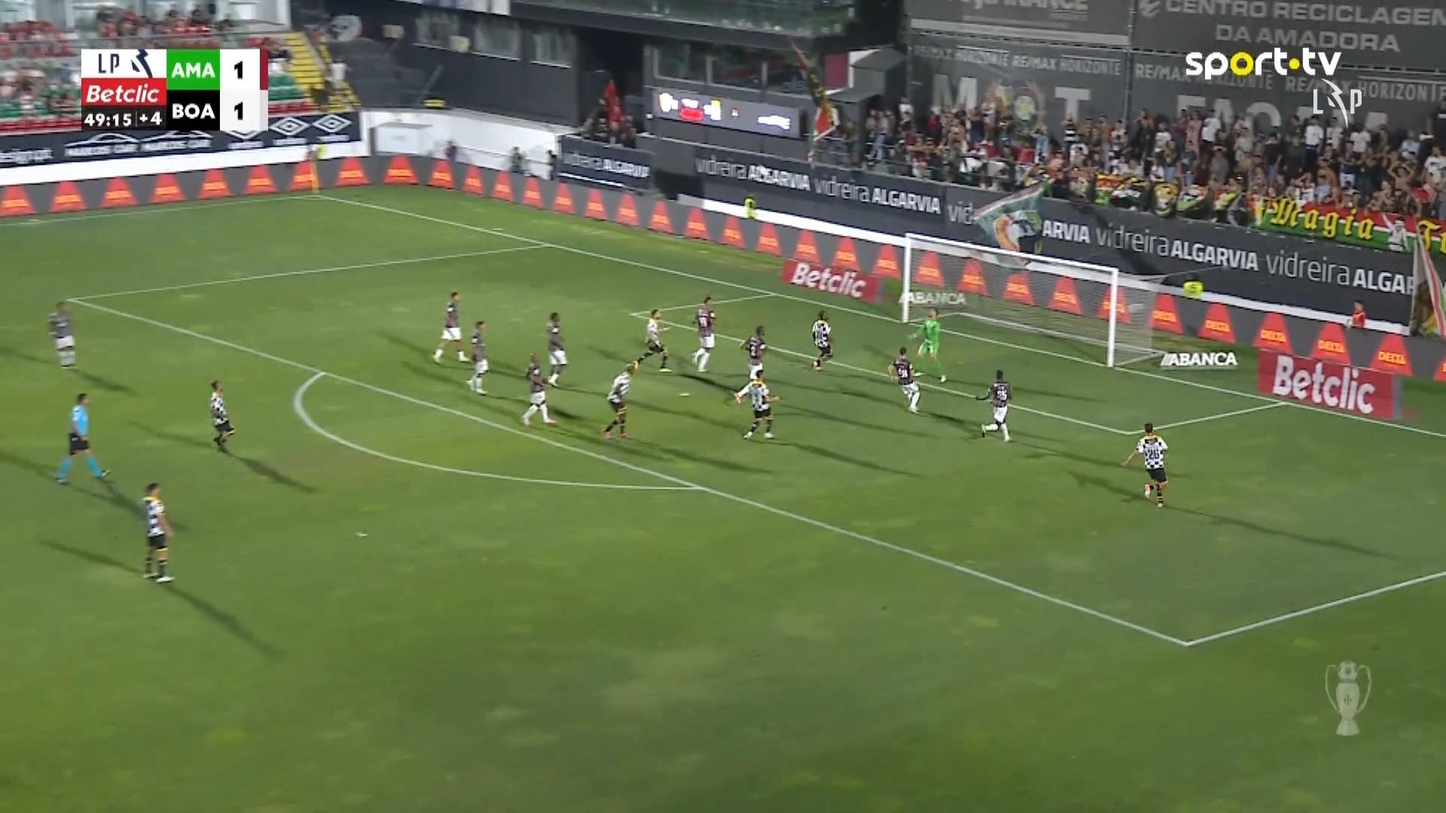goalkeeper: (908, 306, 947, 382)
player: (1120, 422, 1170, 507), (141, 481, 175, 583), (733, 372, 779, 440), (601, 360, 638, 439), (974, 368, 1013, 442), (432, 290, 469, 364), (520, 352, 557, 426), (886, 346, 923, 413), (635, 308, 671, 372), (46, 300, 77, 368), (208, 379, 235, 450), (691, 296, 716, 372), (465, 319, 490, 394), (544, 311, 567, 387), (739, 324, 767, 382), (810, 309, 833, 370)
referee: (53, 391, 111, 484)
